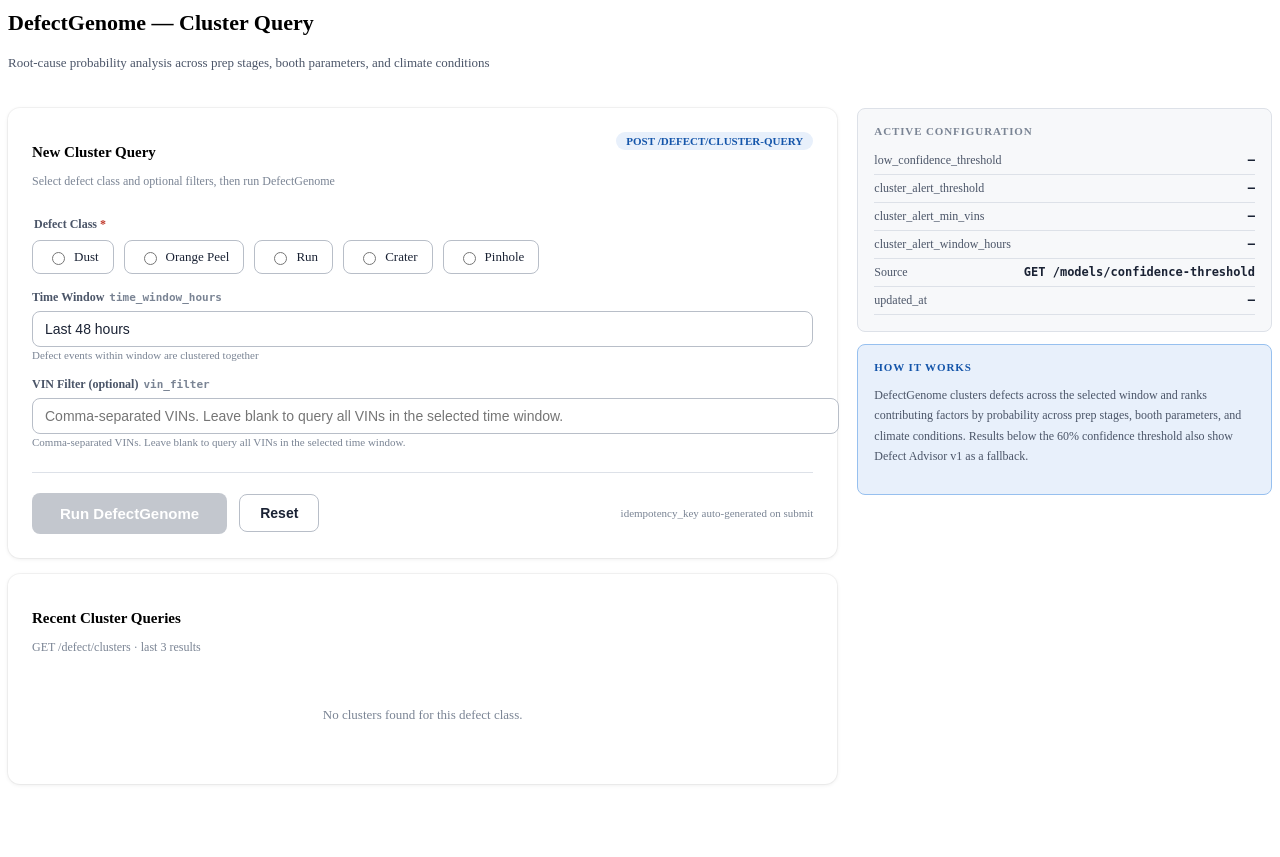
Test case: DefectGenomePage — Advisor v1 fallback › renders Advisor v1 card when advisor_v1_fallback is present and low_confidence=true
Click the radio button with test id "radio-dust": (58, 258) 52,252 -> 65,265
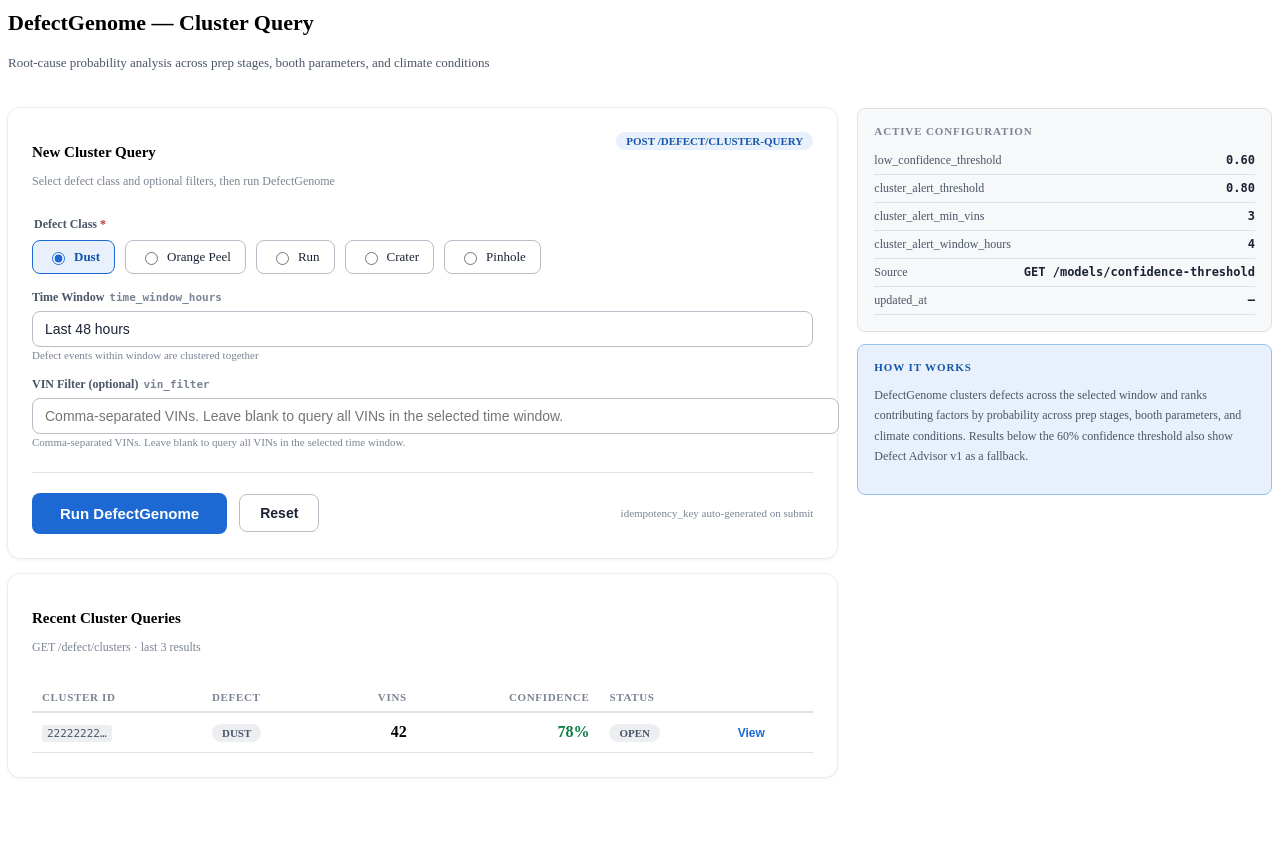
Click the button with test id "run-defect-genome-btn": (130, 513) 32,493 -> 227,534
(page scrolled)
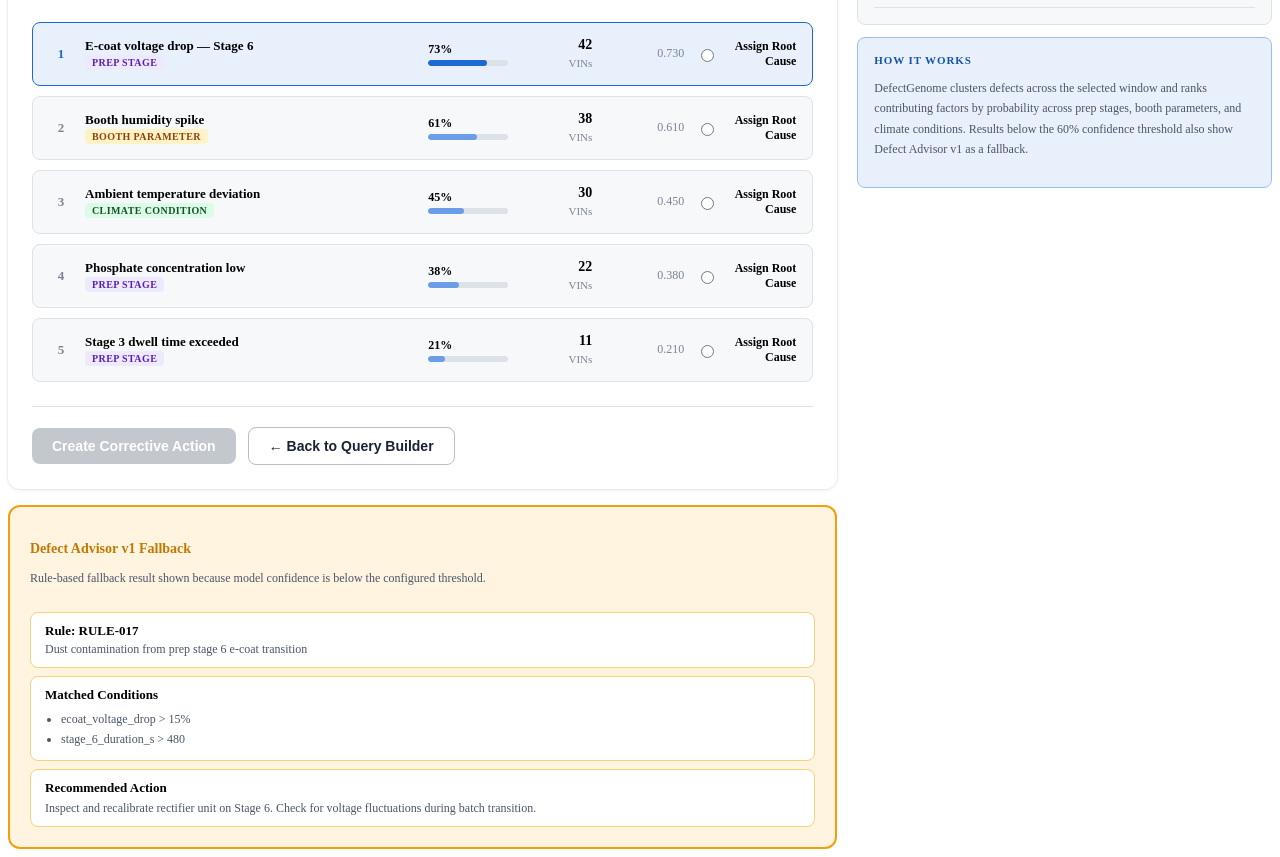
Check: the element with test id "factor-list" is shown, box 32,22 -> 813,382
Check: the element with test id "advisor-v1-fallback" is shown, box 8,505 -> 837,849
